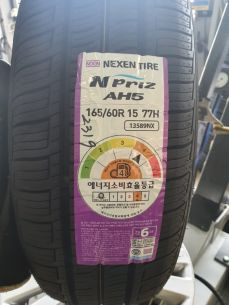new_condition: (12, 1, 196, 305)
